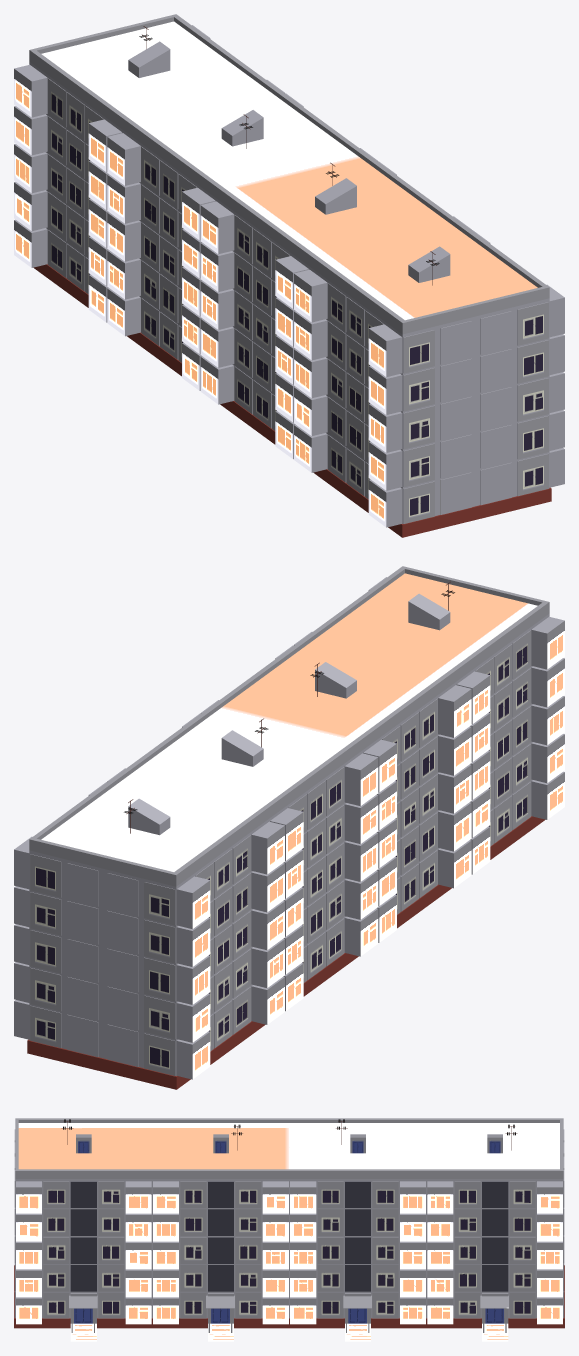
Rendered from apartment.glb.
3 renders of one model, top to bottom at view 1: azimuth 30°, elevation 25°; view 2: azimuth 150°, elevation 25°; view 3: azimuth 270°, elevation 25°, orthographic. The views are drawn at different scales.
Visible parts, largest first — view 1: Apartment; view 2: Apartment; view 3: Apartment.
Boxes of the visible parts, x1,y1,x2,y2 form: Apartment: [14, 14, 564, 537]; Apartment: [14, 566, 564, 1089]; Apartment: [14, 1118, 564, 1341].
Bounding box in the file's own units: 15.75 × 18.24 × 50.72.
Materials: 22 (22 with a texture image).
